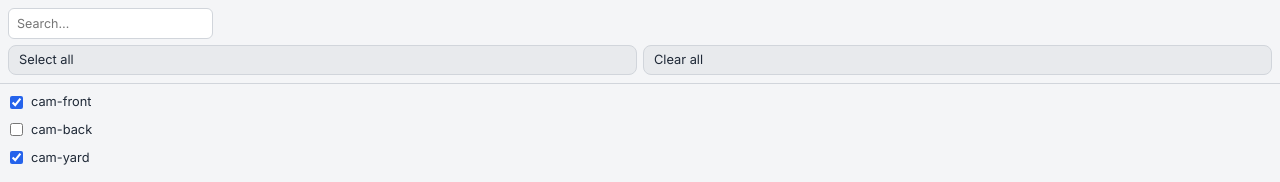
Test case: CameraChecklist › search filters the visible cameras (case-insensitive)
This screenshot has width=1280, height=182.
In the search field with test id "cc-search": point(110, 24) 8,8 -> 213,39, type "YARD"
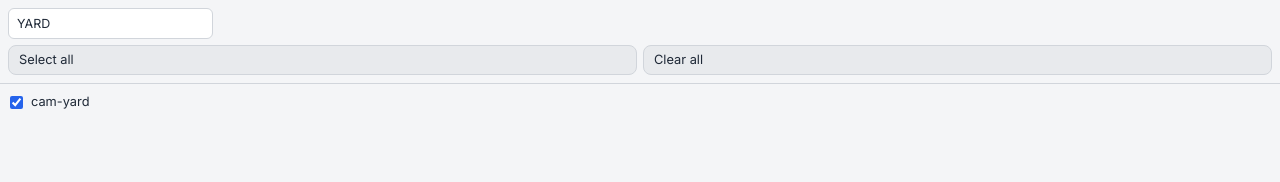
Expected: the checkbox labelled "cam-yard" is shown, 10,96 -> 23,109
Expected: the text "cam-front" is gone
